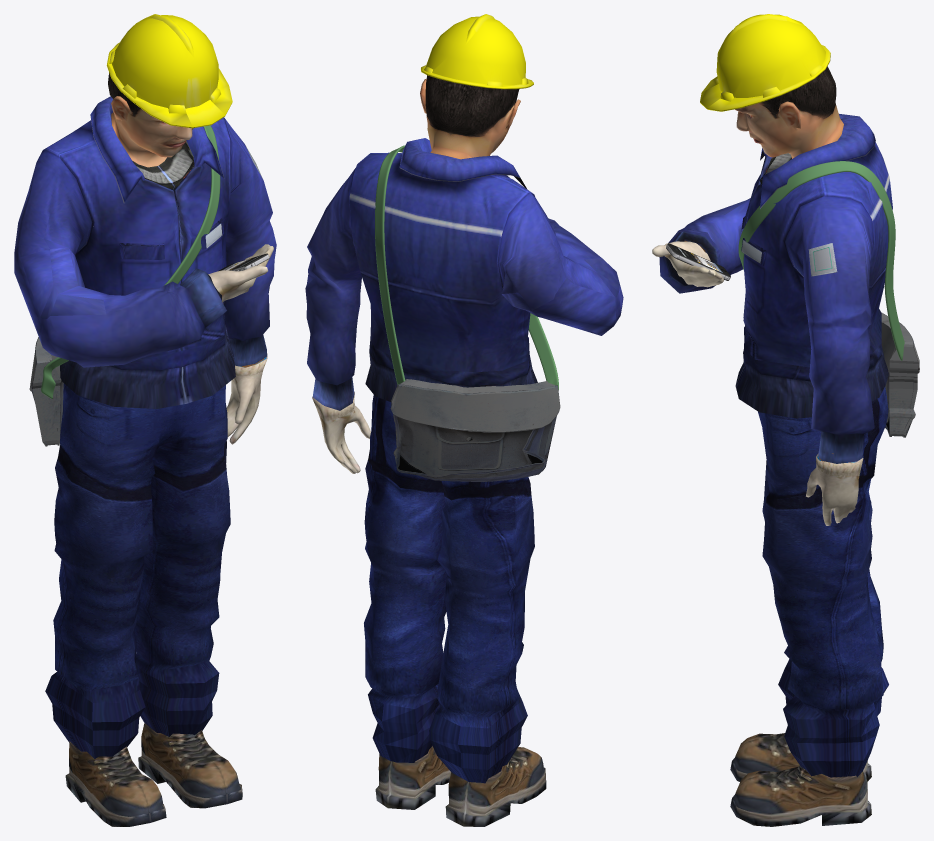
Rendered from ksj1.gltf.
The picture shows the model from 3 angles, left to right: view 1: azimuth 30°, elevation 25°; view 2: azimuth 150°, elevation 25°; view 3: azimuth 270°, elevation 25°; orthographic projection. The views are drawn at different scales.
Visible parts, largest first — view 1: Z_UP; view 2: Z_UP; view 3: Z_UP.
Part boxes in pixels (x1,y1,x2,y2): Z_UP: [14, 14, 276, 826]; Z_UP: [305, 14, 623, 826]; Z_UP: [652, 14, 919, 826].
Size of the model in its own units: 0.6196 by 1.7 by 0.5291.
5 materials, 5 textured.
